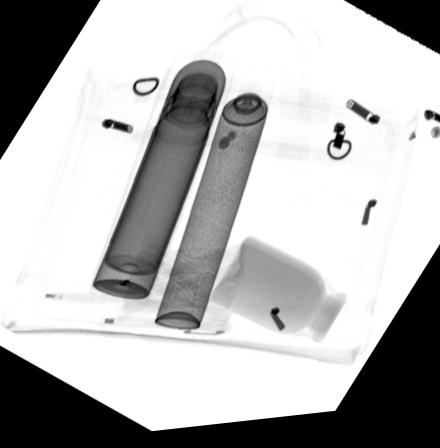Sprayer: (151, 66, 276, 336)
